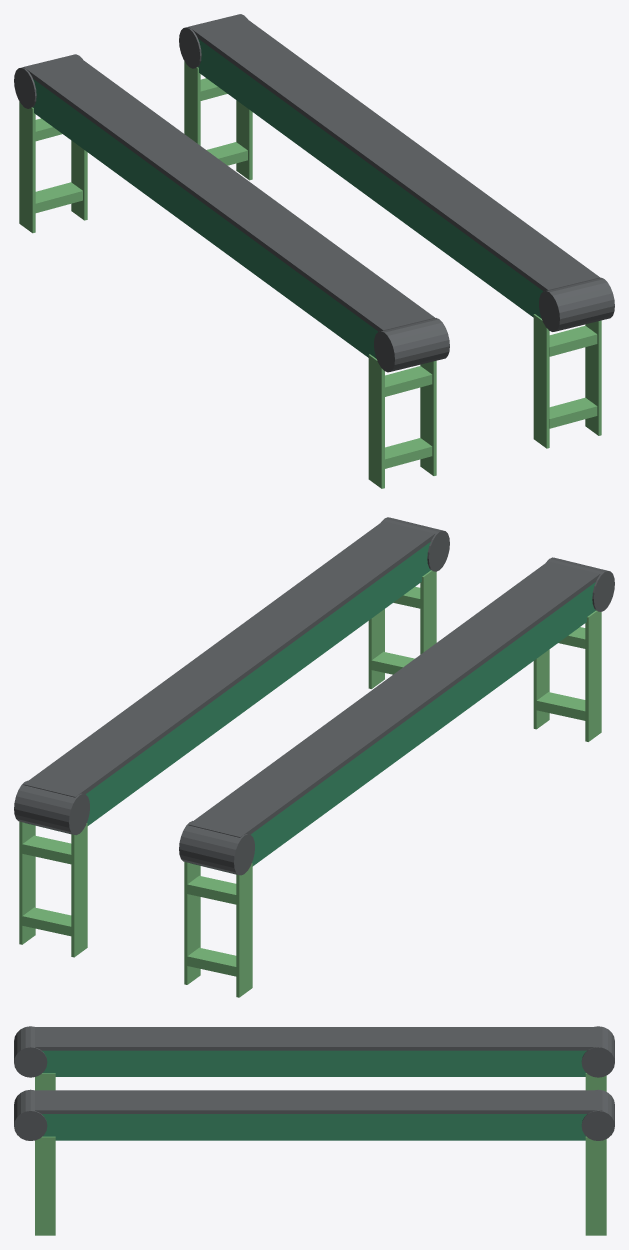
File: Conveyor3.fbx
3 views of the same model, one above another, from view 1: azimuth 30°, elevation 25°; view 2: azimuth 150°, elevation 25°; view 3: azimuth 270°, elevation 25° (orthographic). The views are drawn at different scales.
Visible parts, largest first — view 1: Mesh_Mesh_head_geo.001_lambert2SG.001; view 2: Mesh_Mesh_head_geo.001_lambert2SG.001; view 3: Mesh_Mesh_head_geo.001_lambert2SG.001.
Part boxes in pixels (<box>): Mesh_Mesh_head_geo.001_lambert2SG.001: <box>14,14,614,488</box>; Mesh_Mesh_head_geo.001_lambert2SG.001: <box>14,517,614,997</box>; Mesh_Mesh_head_geo.001_lambert2SG.001: <box>14,1026,614,1235</box>.
Bounding box in the file's own units: 4800 × 3300 × 14400.
